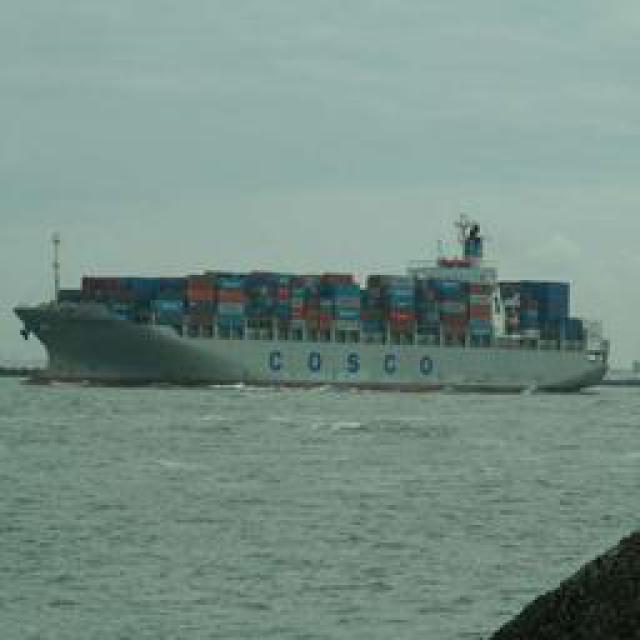Ship: (9, 211, 626, 399)
